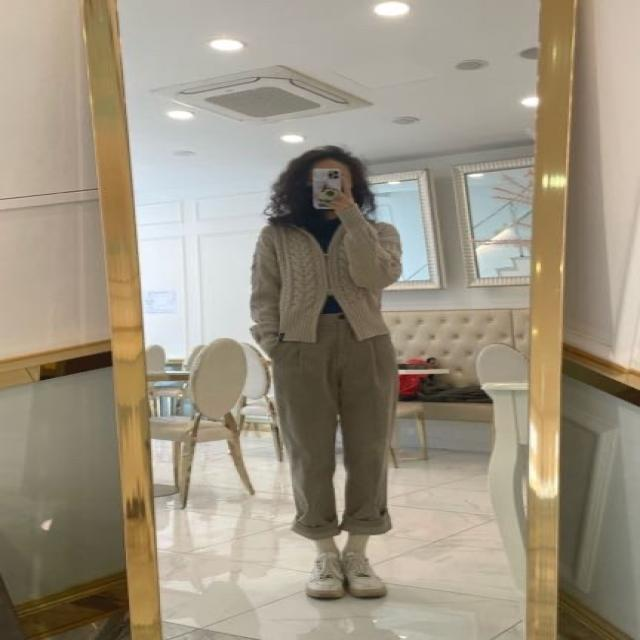cottonpants: (267, 312, 400, 538)
denimpants: (250, 212, 403, 342)
